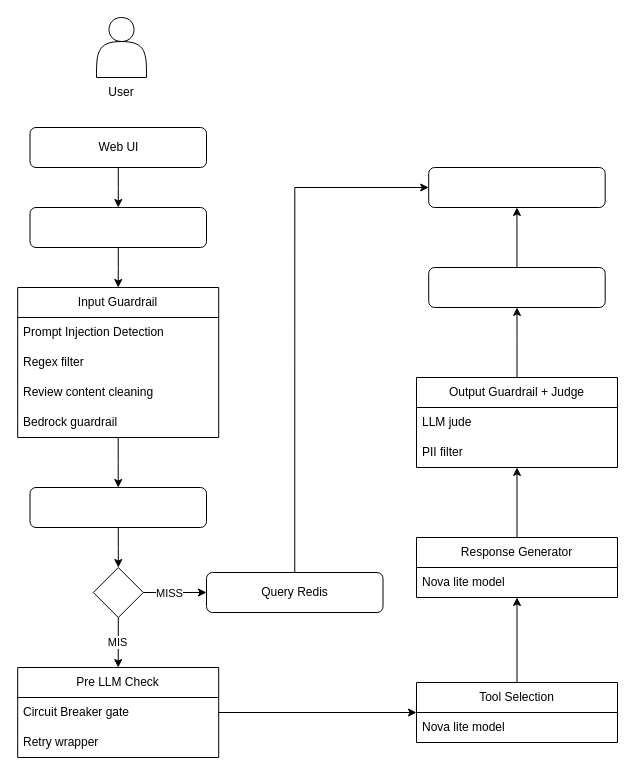
Some shapes in this 635 by 775 pixel diagram are drawn without their labels. Each missing label, with the centre of its shape:
Cache summary: (x=516, y=287)
Check Cache: (x=117, y=507)
Fast API/ REST API: (x=117, y=227)
Final response: (x=516, y=187)
